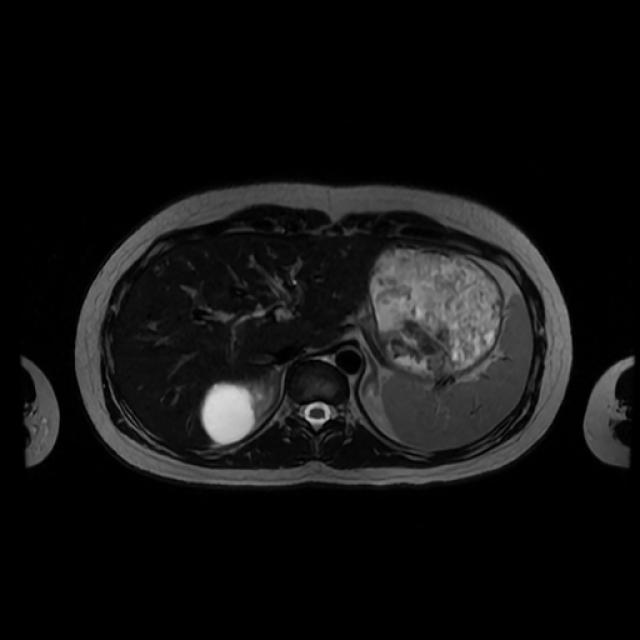sag: (201, 381, 274, 446)
sol: (364, 386, 385, 423)
